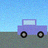vehicle: (18, 19, 47, 38)
